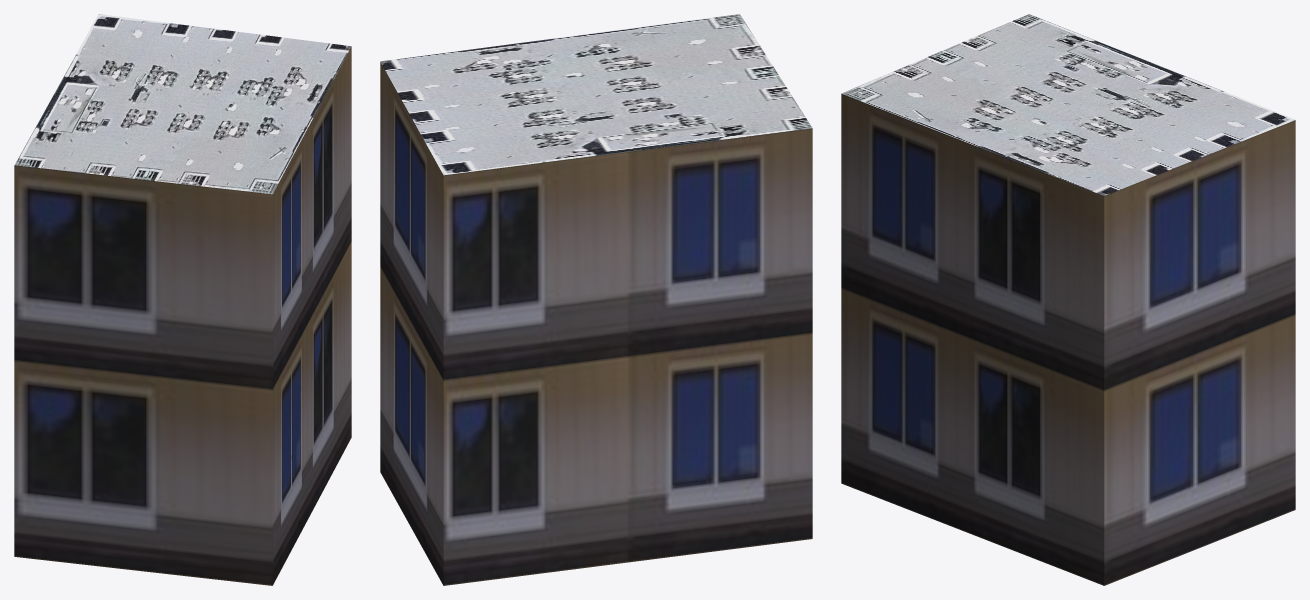
The model's file is ResTex__2890.fbx.
3 views of the same model, side by side, from view 1: azimuth 30°, elevation 25°; view 2: azimuth 150°, elevation 25°; view 3: azimuth 270°, elevation 25° (orthographic). The views are drawn at different scales.
Parts seen in each view (by area): view 1: CityEngineMaterial_5_m, CityEngineMaterial_m; view 2: CityEngineMaterial_5_m, CityEngineMaterial_m; view 3: CityEngineMaterial_5_m, CityEngineMaterial_m.
Boxes of the visible parts, x1,y1,x2,y2 form: CityEngineMaterial_5_m: (14, 46, 351, 585); CityEngineMaterial_m: (15, 14, 351, 194); CityEngineMaterial_5_m: (380, 62, 812, 585); CityEngineMaterial_m: (380, 14, 812, 175); CityEngineMaterial_5_m: (841, 94, 1295, 585); CityEngineMaterial_m: (841, 14, 1294, 195).
Size of the model in its own units: 6.01 by 6 by 6.34.
2 materials, 2 textured.
